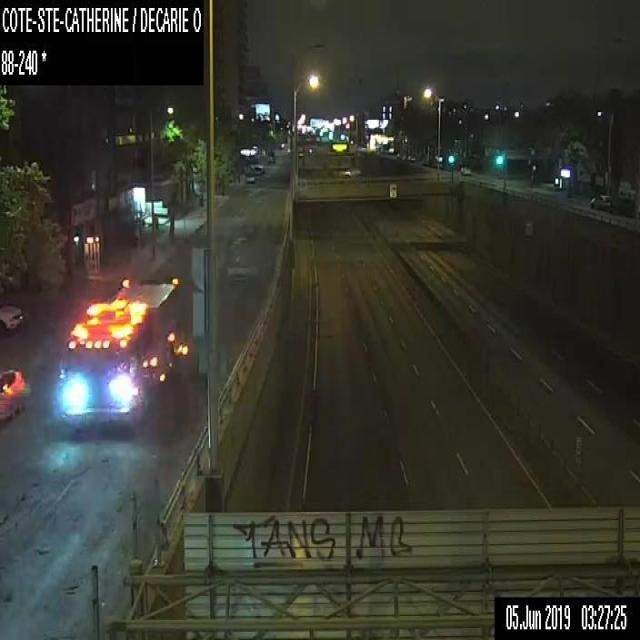vehicle: (55, 277, 186, 424), (0, 366, 25, 422), (589, 194, 610, 209), (459, 165, 471, 175), (245, 173, 254, 181)
